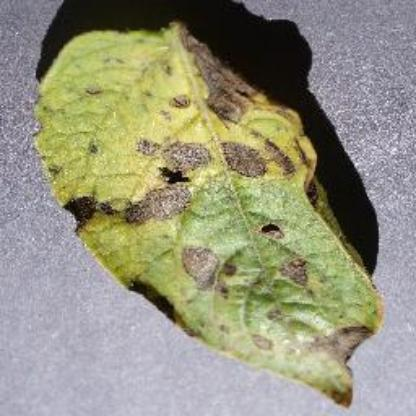Early-Blight: (17, 14, 402, 398)
